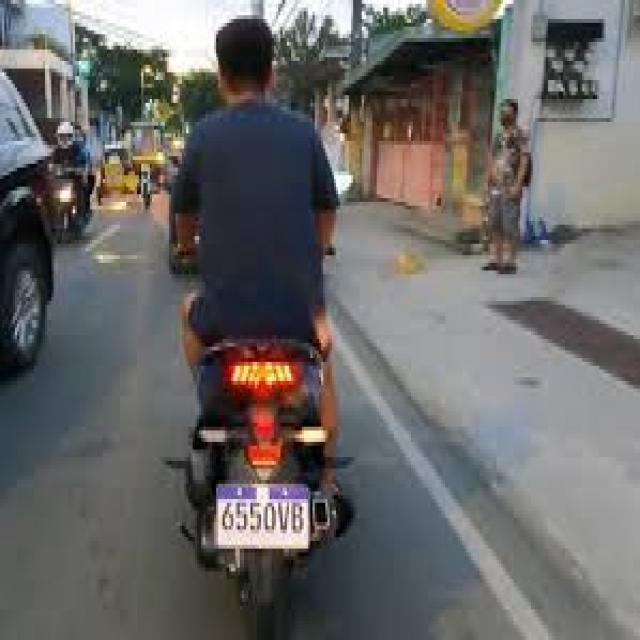Numberplate: (217, 487, 312, 551)
bike: (190, 336, 358, 620)
no_helmet: (210, 16, 288, 102)
